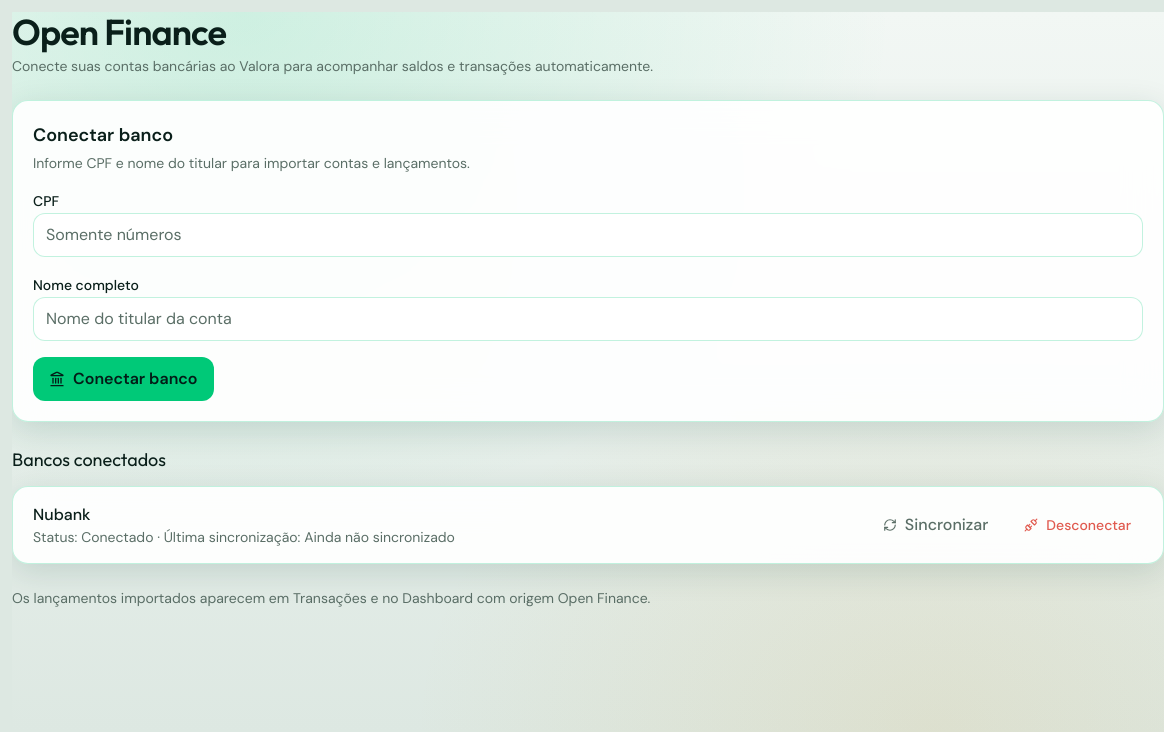
Scenario: OpenFinancePage › shows friendly sync success message
What coordinates should you click on to do the following:
click the button "Sincronizar"
I would click on:
 (936, 525)
Its box is 867,503 -> 1004,547.
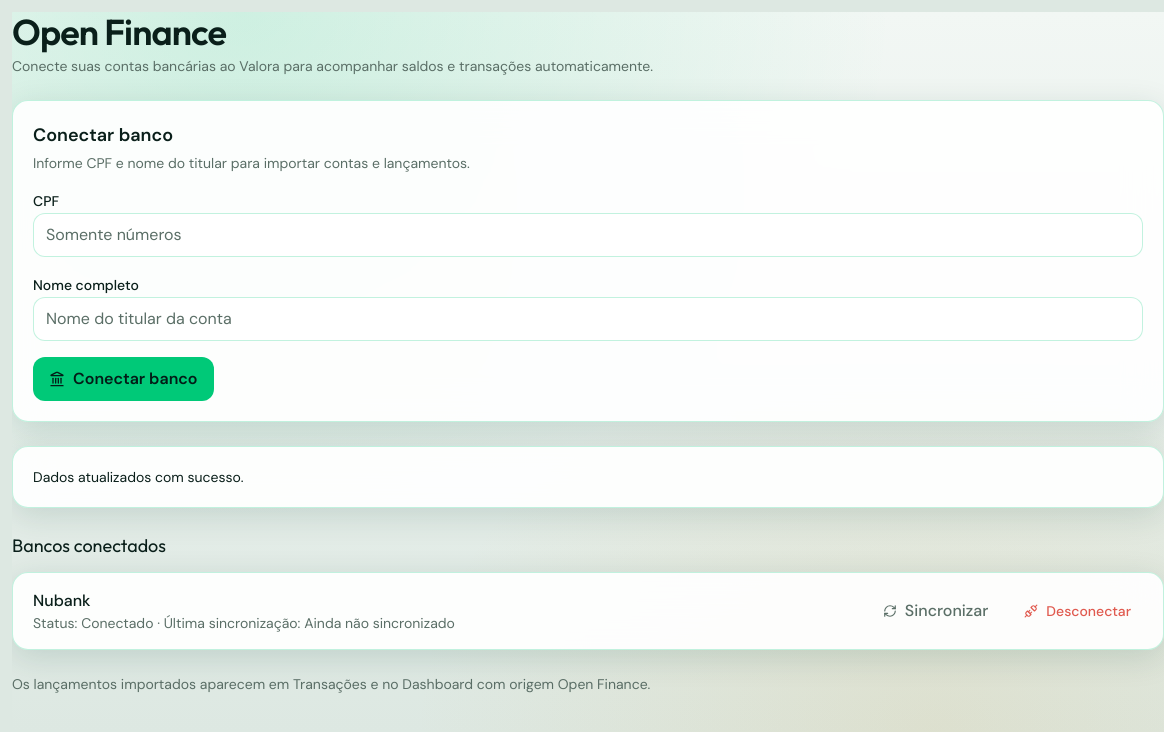
Check: the text "Dados atualizados com sucesso." is shown, box 33,468 -> 244,486
